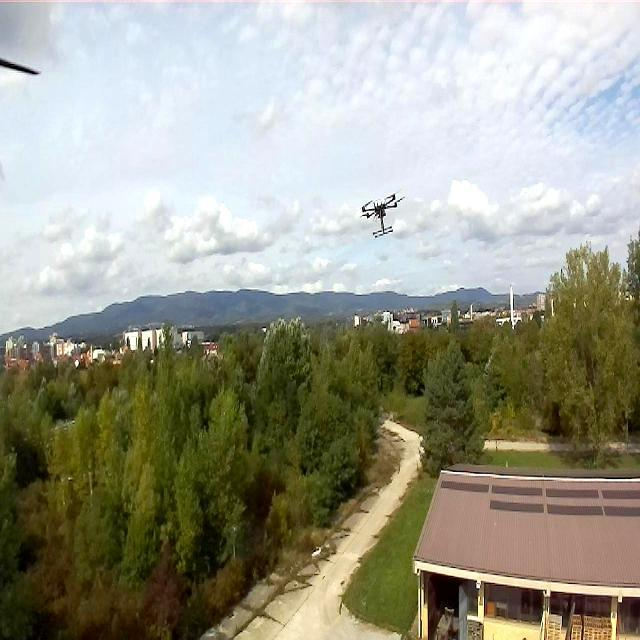drone: (360, 187, 405, 240)
